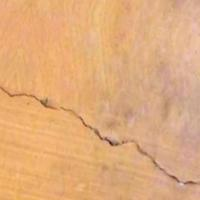crack: (0, 70, 199, 199)
